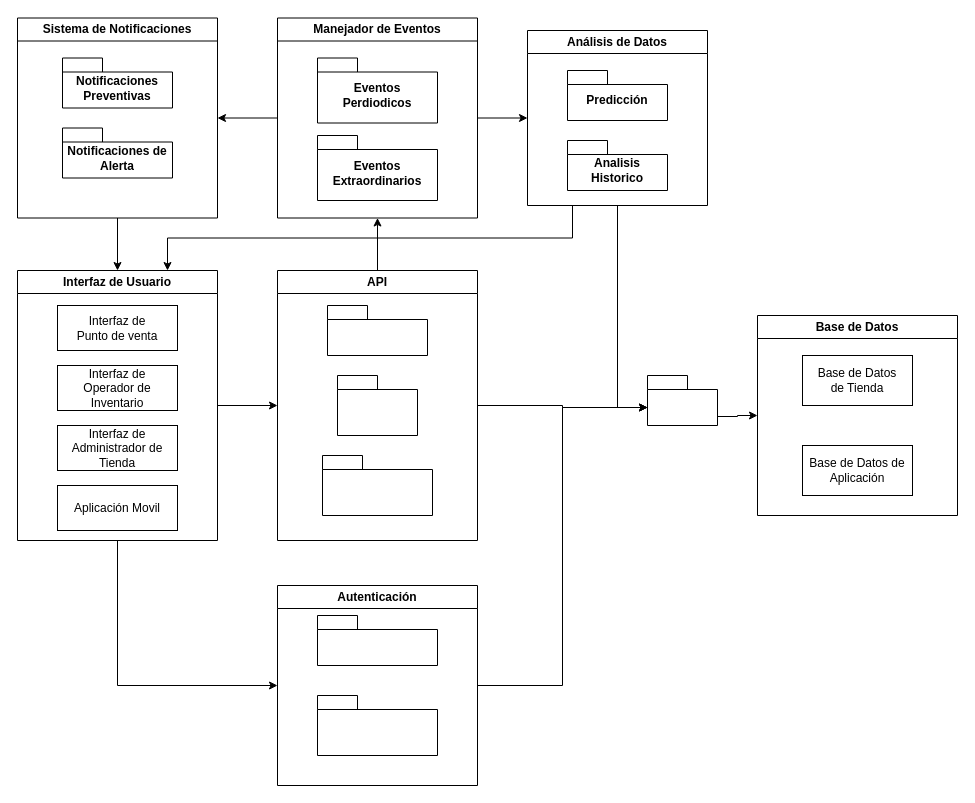
Image size: 975x803. Some labels were removed from this diagram. Each missing label, with the centre of its shape:
API Administración: pixel 377 485
API Operadores: pixel 377 405
API Puntos de Venta: pixel 377 330
Autenticación de Roles: pixel 377 640
Authentication de Tienda: pixel 377 725
DAO: pixel 682 400
